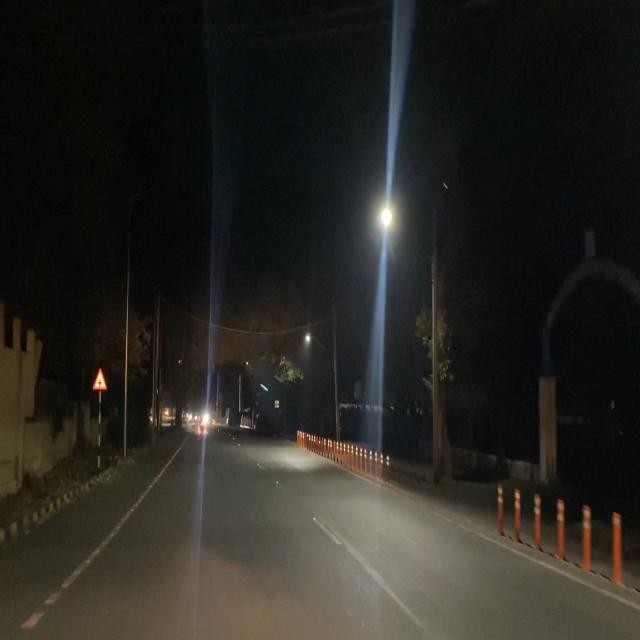bien_cam: (92, 365, 106, 395)
